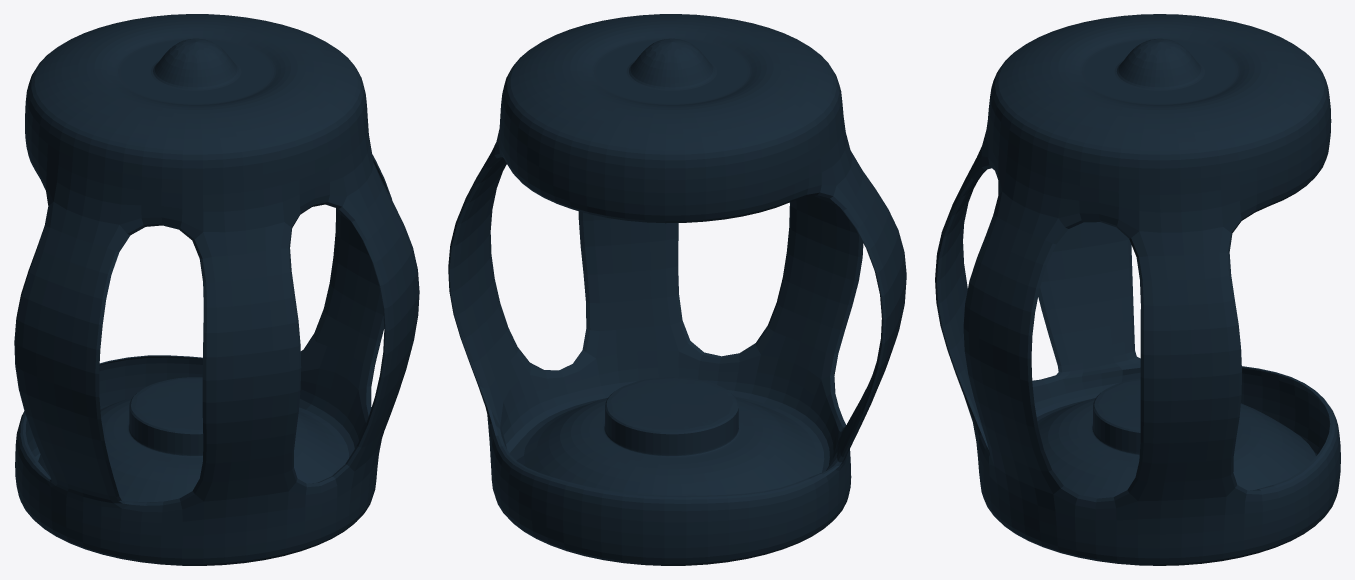
Rendered from HealthPickupTest.fbx.
3 views of the same model, side by side, from view 1: azimuth 30°, elevation 25°; view 2: azimuth 150°, elevation 25°; view 3: azimuth 270°, elevation 25° (orthographic).
Visible parts, largest first — view 1: Cylinder; view 2: Cylinder; view 3: Cylinder.
Part boxes in pixels (x1=…): Cylinder: x1=14, y1=14, x2=419, y2=565; Cylinder: x1=448, y1=14, x2=906, y2=565; Cylinder: x1=935, y1=14, x2=1340, y2=565.
Size of the model in its own units: 0.8236 by 0.9045 by 0.7381.
